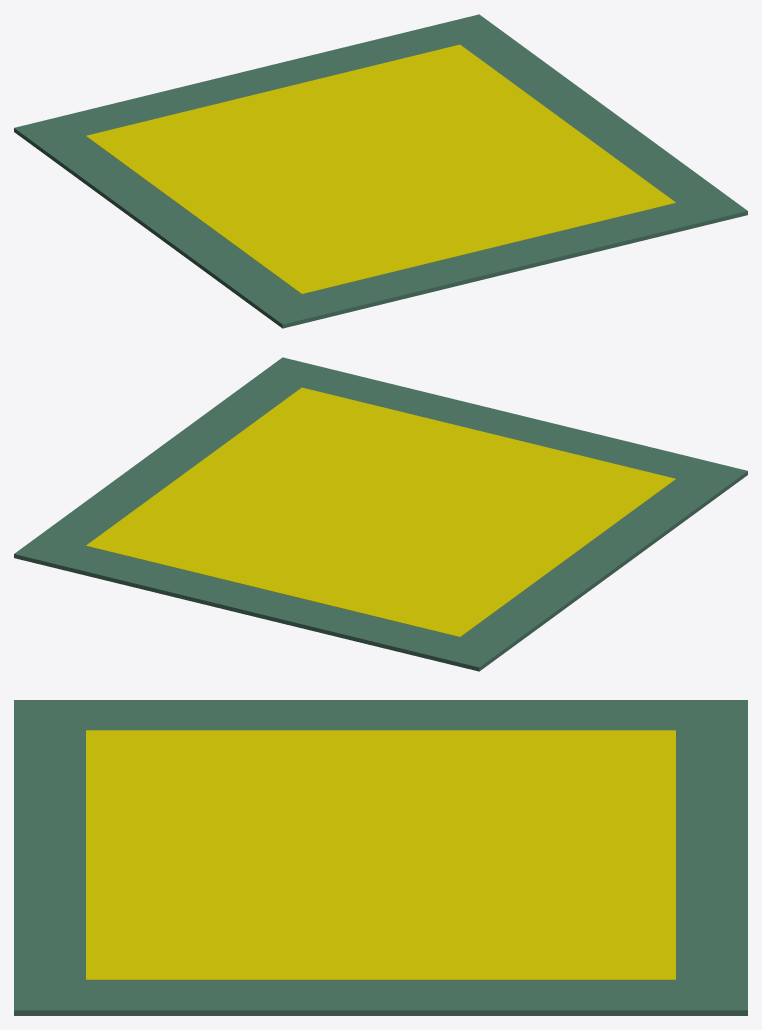
File: slab_A2.glb
3 views of the same model, one above another, from view 1: azimuth 30°, elevation 25°; view 2: azimuth 150°, elevation 25°; view 3: azimuth 270°, elevation 25° (orthographic). The views are drawn at different scales.
Parts seen in each view (by area): view 1: =>[0:1:1:2], =>[0:1:1:3]; view 2: =>[0:1:1:2], =>[0:1:1:3]; view 3: =>[0:1:1:2], =>[0:1:1:3].
Part boxes in pixels (bbox=[...]): =>[0:1:1:2]: bbox=[86, 44, 675, 293]; =>[0:1:1:3]: bbox=[14, 14, 747, 328]; =>[0:1:1:2]: bbox=[86, 387, 675, 636]; =>[0:1:1:3]: bbox=[14, 357, 747, 671]; =>[0:1:1:2]: bbox=[86, 730, 675, 979]; =>[0:1:1:3]: bbox=[14, 700, 747, 1015].
Bounding box in the file's own units: 0.08 × 0.000707 × 0.08.
